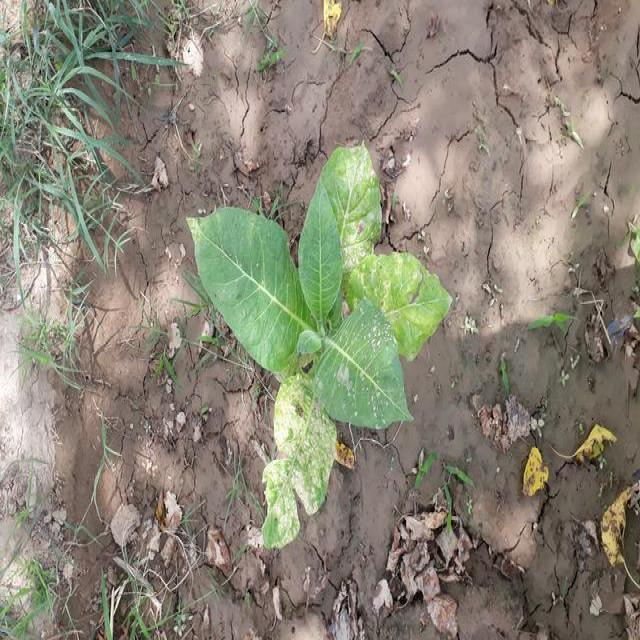crop: (194, 139, 454, 535)
